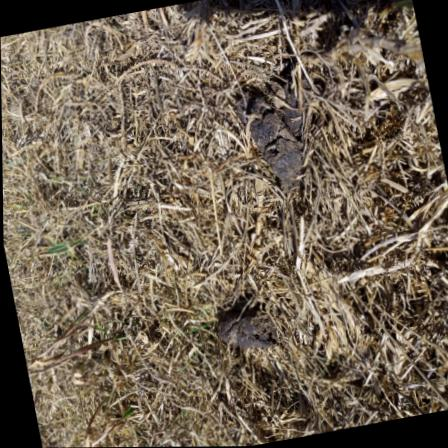dog-poop: (210, 56, 323, 197), (198, 289, 285, 368)
